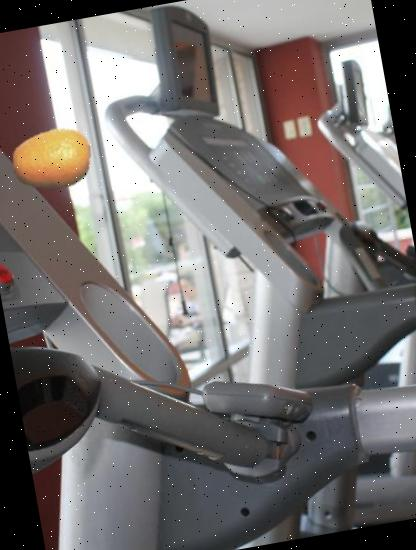Kumquats: (6, 113, 98, 205)
